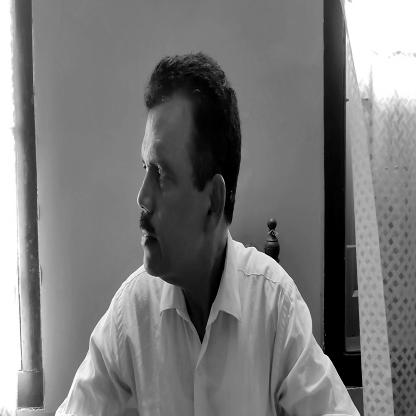Distracted: (133, 58, 238, 270)
